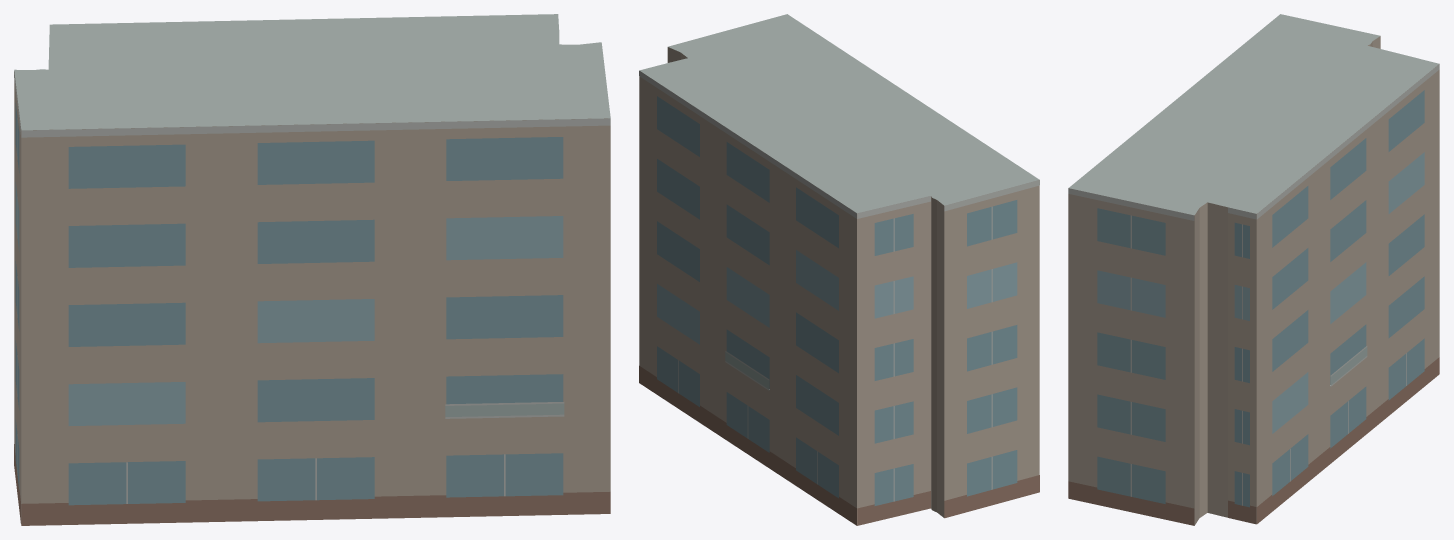
Rendered from survey-upis-33010771.glb.
3 views of the same model, side by side, from view 1: azimuth 30°, elevation 25°; view 2: azimuth 150°, elevation 25°; view 3: azimuth 270°, elevation 25° (orthographic). The views are drawn at different scales.
Visible parts, largest first — view 1: survey-upis-33010771.tmp; view 2: survey-upis-33010771.tmp; view 3: survey-upis-33010771.tmp.
Part boxes in pixels (x1,y1,x2,y2): survey-upis-33010771.tmp: (14, 14, 610, 525); survey-upis-33010771.tmp: (639, 14, 1039, 525); survey-upis-33010771.tmp: (1068, 14, 1439, 525).
Size of the model in its own units: 18.51 by 13.3 by 14.42.
